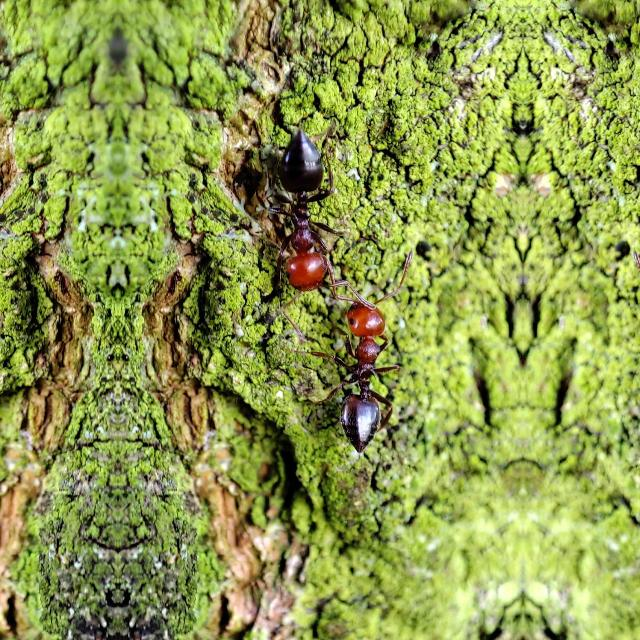Crematogaster: (258, 119, 344, 291), (336, 294, 400, 452)
